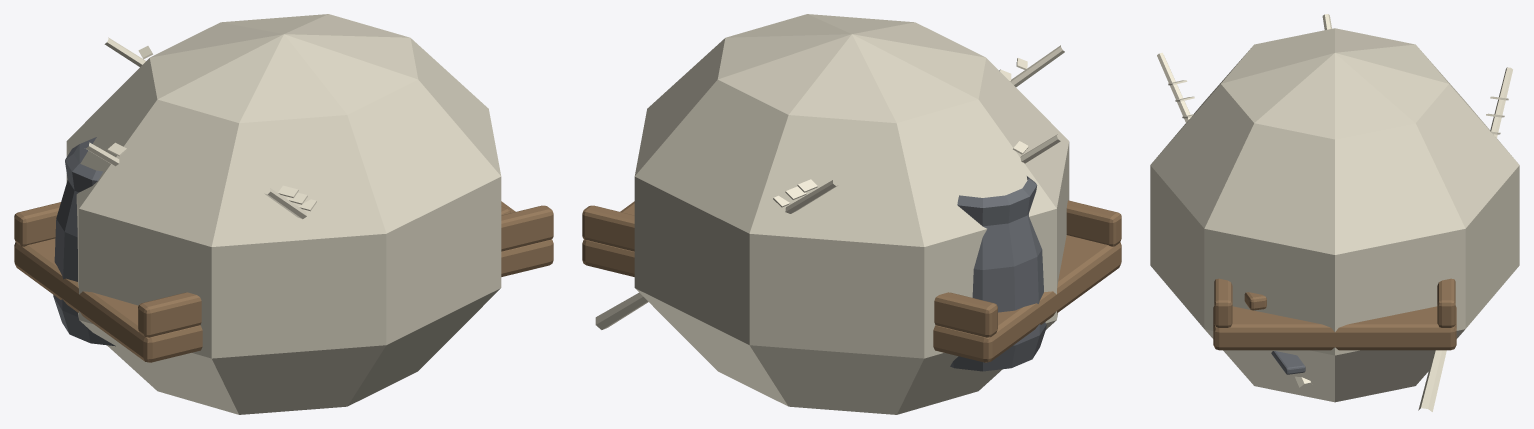
File: quill_inkhorn_set.glb
The picture shows the model from 3 angles, left to right: view 1: azimuth 30°, elevation 25°; view 2: azimuth 150°, elevation 25°; view 3: azimuth 270°, elevation 25°; orthographic projection. The views are drawn at different scales.
Visible parts, largest first — view 1: 092-quill-and-inkhorn-set/3, 092-quill-and-inkhorn-set/0, 092-quill-and-inkhorn-set/1, 092-quill-and-inkhorn-set/2; view 2: 092-quill-and-inkhorn-set/3, 092-quill-and-inkhorn-set/0, 092-quill-and-inkhorn-set/1, 092-quill-and-inkhorn-set/2; view 3: 092-quill-and-inkhorn-set/3, 092-quill-and-inkhorn-set/0, 092-quill-and-inkhorn-set/2, 092-quill-and-inkhorn-set/1.
Part boxes in pixels (bbox=[...]): 092-quill-and-inkhorn-set/3: bbox=[66, 14, 501, 414]; 092-quill-and-inkhorn-set/0: bbox=[14, 201, 553, 362]; 092-quill-and-inkhorn-set/1: bbox=[53, 137, 115, 346]; 092-quill-and-inkhorn-set/2: bbox=[86, 37, 316, 219]; 092-quill-and-inkhorn-set/3: bbox=[634, 14, 1069, 414]; 092-quill-and-inkhorn-set/0: bbox=[582, 200, 1121, 362]; 092-quill-and-inkhorn-set/1: bbox=[950, 176, 1046, 371]; 092-quill-and-inkhorn-set/2: bbox=[595, 45, 1064, 329]; 092-quill-and-inkhorn-set/3: bbox=[1150, 28, 1519, 402]; 092-quill-and-inkhorn-set/0: bbox=[1213, 278, 1456, 350]; 092-quill-and-inkhorn-set/2: bbox=[1157, 14, 1512, 411]; 092-quill-and-inkhorn-set/1: bbox=[1271, 351, 1305, 374].
Size of the model in its own units: 2 by 1.68 by 1.73.
